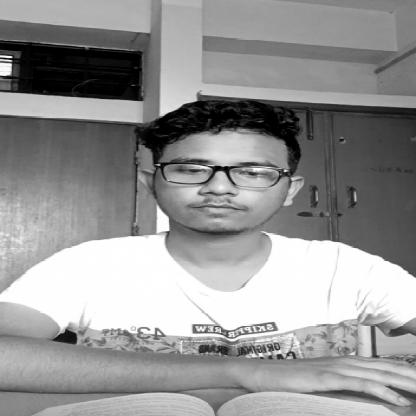Normal: (114, 103, 310, 226)
